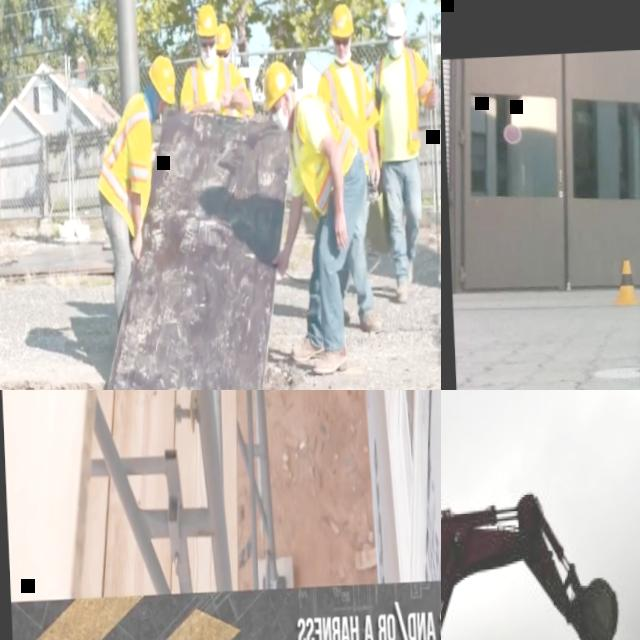Hardhat: (145, 55, 176, 105), (263, 61, 294, 109), (328, 4, 354, 38), (383, 4, 408, 39), (193, 4, 217, 39), (214, 23, 231, 54)
Mask: (271, 97, 290, 134), (199, 44, 217, 69), (387, 38, 405, 60), (221, 56, 229, 65)
Person: (262, 56, 374, 380), (91, 55, 184, 340), (313, 1, 386, 324), (366, 1, 441, 304), (175, 1, 250, 122), (216, 24, 252, 118)
Safety Cone: (610, 260, 640, 306)
Safety Vest: (288, 90, 358, 221), (93, 94, 155, 233), (317, 60, 380, 175), (373, 48, 433, 159), (180, 59, 236, 115)
vehicle: (441, 490, 627, 640)
